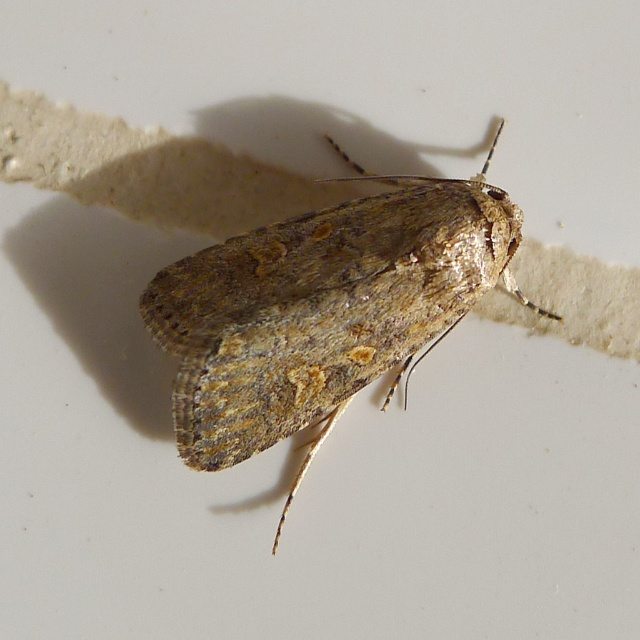Moths and butterflies: (138, 112, 564, 557)
